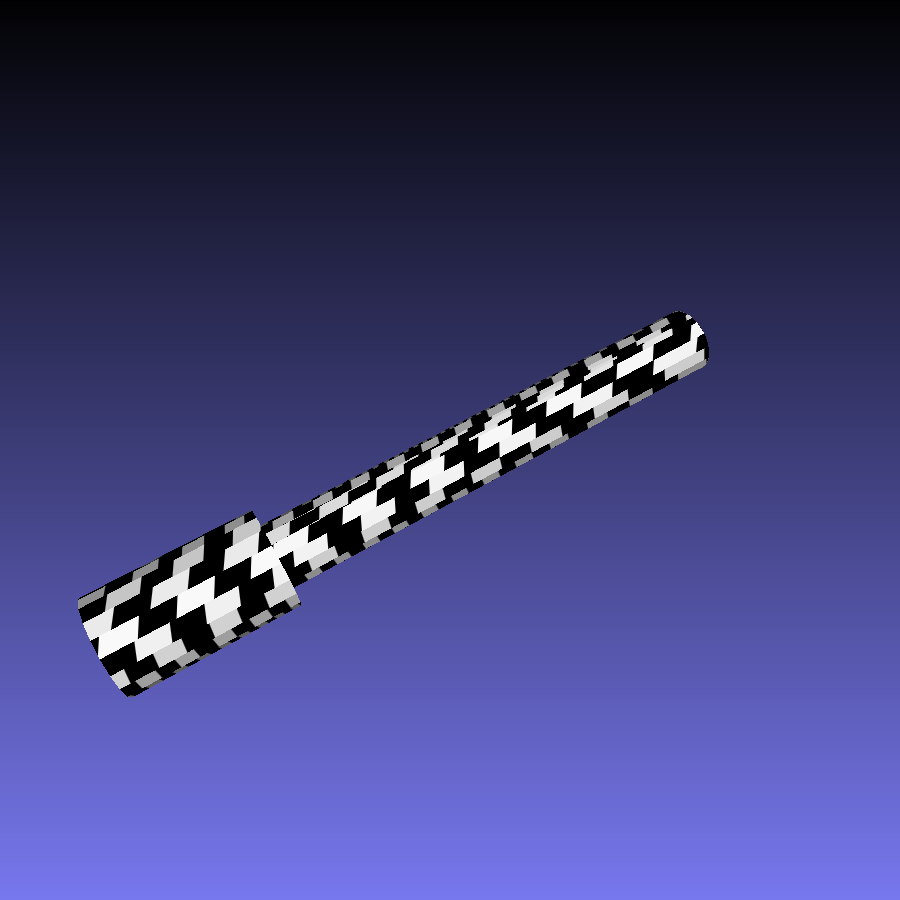cargo_g: (78, 308, 709, 697)
